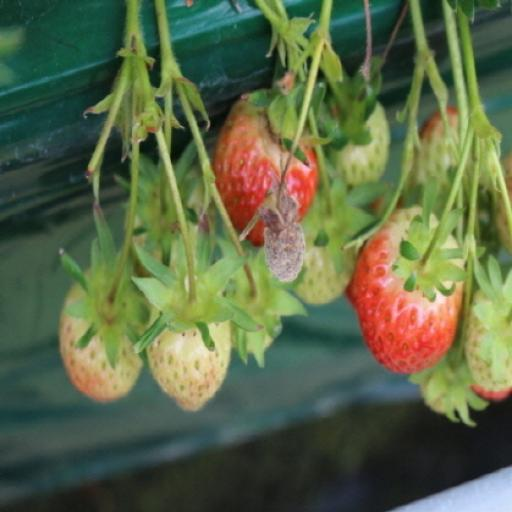Gray Mold: (238, 185, 306, 283)
